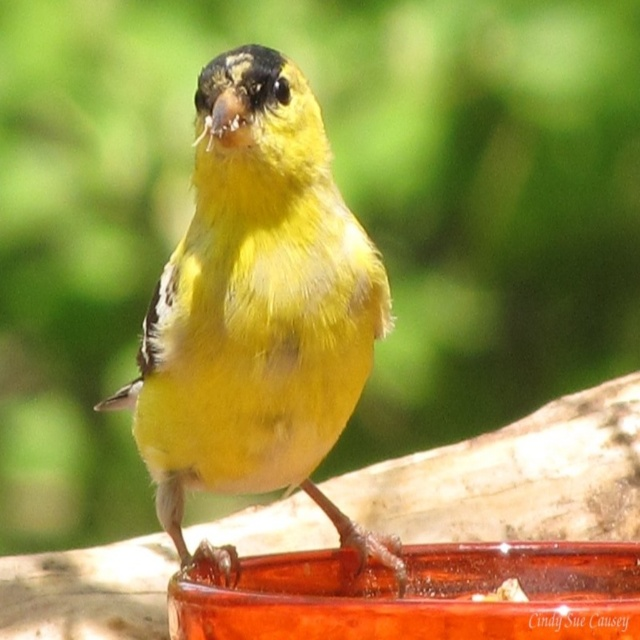Canary: (94, 43, 407, 598)
